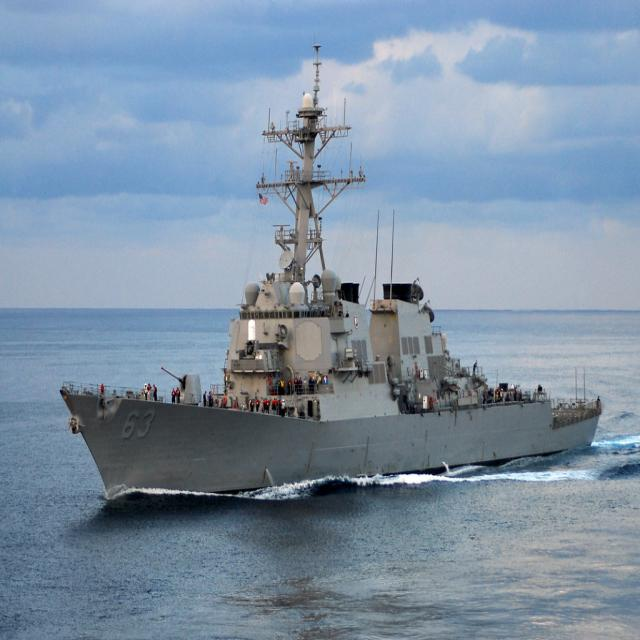navalvessels: (42, 15, 611, 517)
